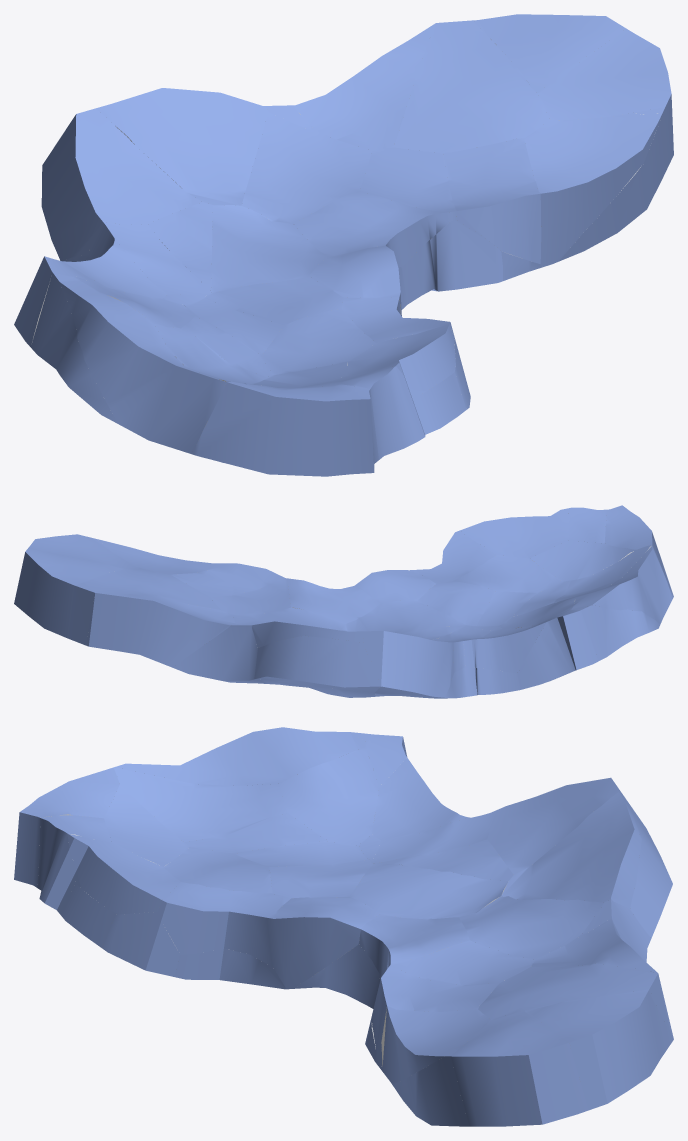
Rendered from pondfragments.fbx.
3 views of the same model, one above another, from view 1: azimuth 30°, elevation 25°; view 2: azimuth 150°, elevation 25°; view 3: azimuth 270°, elevation 25° (orthographic). The views are drawn at different scales.
Visible parts, largest first — view 1: Pond_cell.011, Pond_cell.021, Pond_cell.040, Pond_cell.020, Pond_cell.042, Pond_cell.001, Pond_cell.009, Pond_cell.043, Pond_cell, Pond_cell.028, Pond_cell.033, Pond_cell.037 (+21 smaller); view 2: Pond_cell.028, Pond_cell.023, Pond_cell.027, Pond_cell.020, Pond_cell.029, Pond_cell.003, Pond_cell.021, Pond_cell.012, Pond_cell.040, Pond_cell.039, Pond_cell.035, Pond_cell.007 (+22 smaller); view 3: Pond_cell, Pond_cell.027, Pond_cell.042, Pond_cell.021, Pond_cell.036, Pond_cell.014, Pond_cell.010, Pond_cell.038, Pond_cell.020, Pond_cell.033, Pond_cell.009, Pond_cell.040 (+24 smaller).
Part boxes in pixels (x1,y1,x2,y2): Pond_cell.011: (193, 381, 378, 476); Pond_cell.021: (59, 276, 226, 453); Pond_cell.040: (394, 20, 550, 153); Pond_cell.020: (41, 108, 201, 260); Pond_cell.042: (96, 88, 268, 205); Pond_cell.001: (524, 113, 661, 267); Pond_cell.009: (241, 112, 371, 223); Pond_cell.043: (443, 138, 541, 263); Pond_cell: (537, 28, 673, 163); Pond_cell.028: (292, 23, 435, 150); Pond_cell.033: (211, 205, 327, 292); Pond_cell.037: (293, 191, 451, 267); Pond_cell.028: (87, 593, 236, 667); Pond_cell.023: (254, 635, 381, 693); Pond_cell.027: (14, 547, 123, 646); Pond_cell.020: (363, 631, 453, 698); Pond_cell.029: (517, 609, 598, 689); Pond_cell.003: (460, 508, 569, 558); Pond_cell.021: (572, 545, 672, 624); Pond_cell.012: (172, 625, 277, 684); Pond_cell.040: (76, 568, 220, 635); Pond_cell.039: (463, 622, 546, 673); Pond_cell.035: (530, 540, 672, 599); Pond_cell.007: (452, 555, 562, 592); Pond_cell: (450, 1010, 588, 1126); Pond_cell.027: (525, 989, 673, 1110); Pond_cell.042: (501, 792, 641, 908); Pond_cell.021: (114, 727, 365, 785); Pond_cell.036: (113, 767, 287, 841); Pond_cell.014: (158, 882, 290, 966); Pond_cell.010: (267, 897, 379, 989); Pond_cell.038: (279, 747, 379, 845); Pond_cell.020: (487, 777, 643, 874); Pond_cell.033: (349, 863, 508, 918); Pond_cell.009: (459, 896, 603, 959); Pond_cell.040: (478, 963, 669, 1028).
Size of the model in its own units: 12899 by 2692 by 10653.
